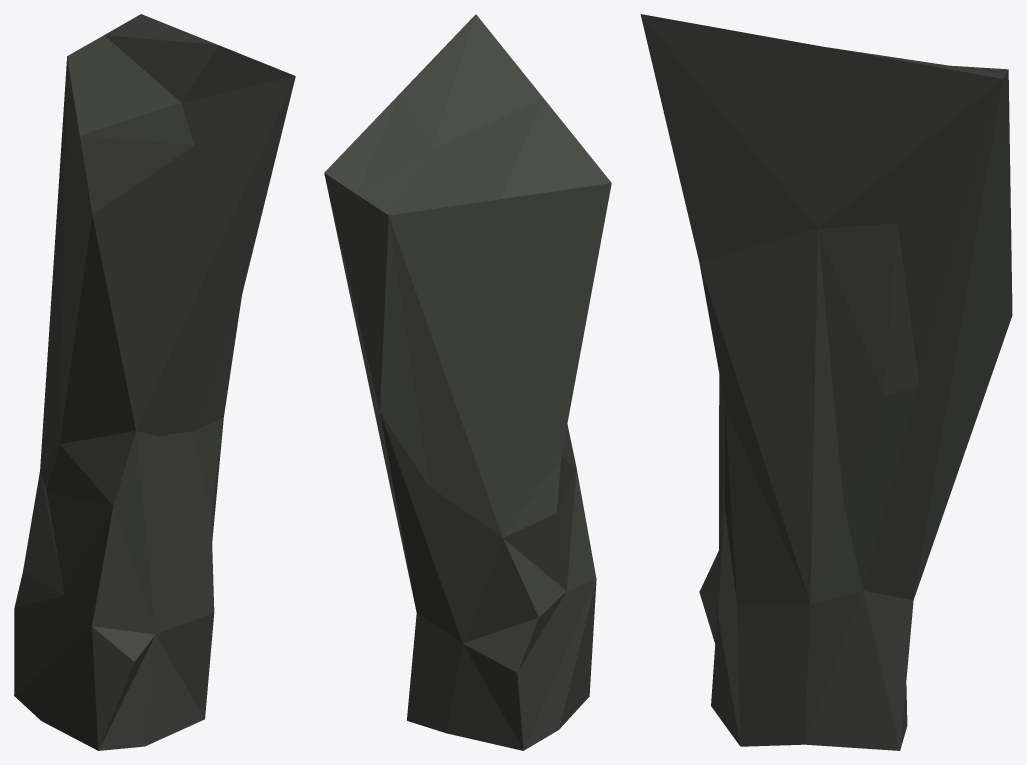
Rendered from AO_Rock04.fbx.
3 renders of one model, left to right at view 1: azimuth 30°, elevation 25°; view 2: azimuth 150°, elevation 25°; view 3: azimuth 270°, elevation 25°, orthographic. The views are drawn at different scales.
Visible parts, largest first — view 1: AO_Rock04; view 2: AO_Rock04; view 3: AO_Rock04.
Part boxes in pixels (x1,y1,x2,y2): AO_Rock04: (14, 14, 295, 750); AO_Rock04: (324, 14, 611, 750); AO_Rock04: (640, 14, 1012, 750).
Bounding box in the file's own units: 84.07 × 299 × 133.
1 material, 1 textured.
